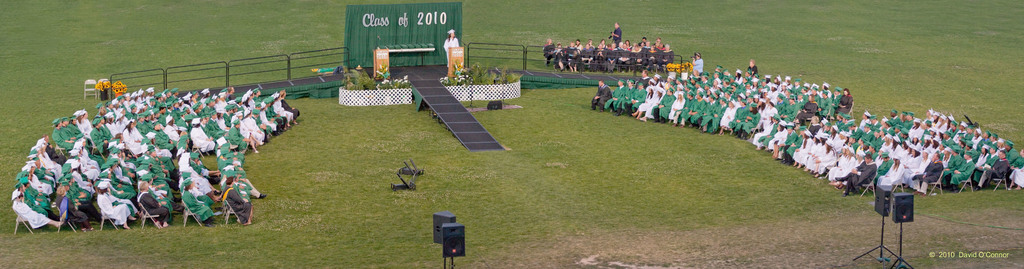Person: (589, 59, 1024, 195), (10, 87, 301, 228), (541, 21, 674, 71), (441, 28, 459, 67), (690, 50, 704, 73)
